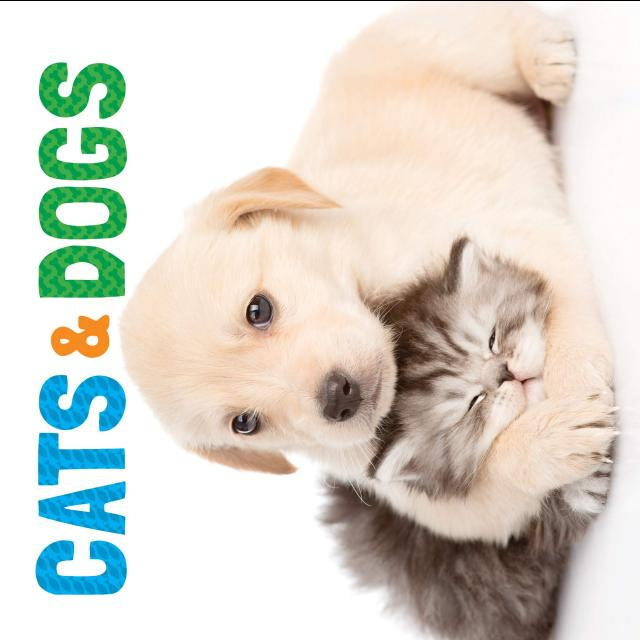cat: (315, 236, 571, 640)
dog: (114, 164, 398, 498)
